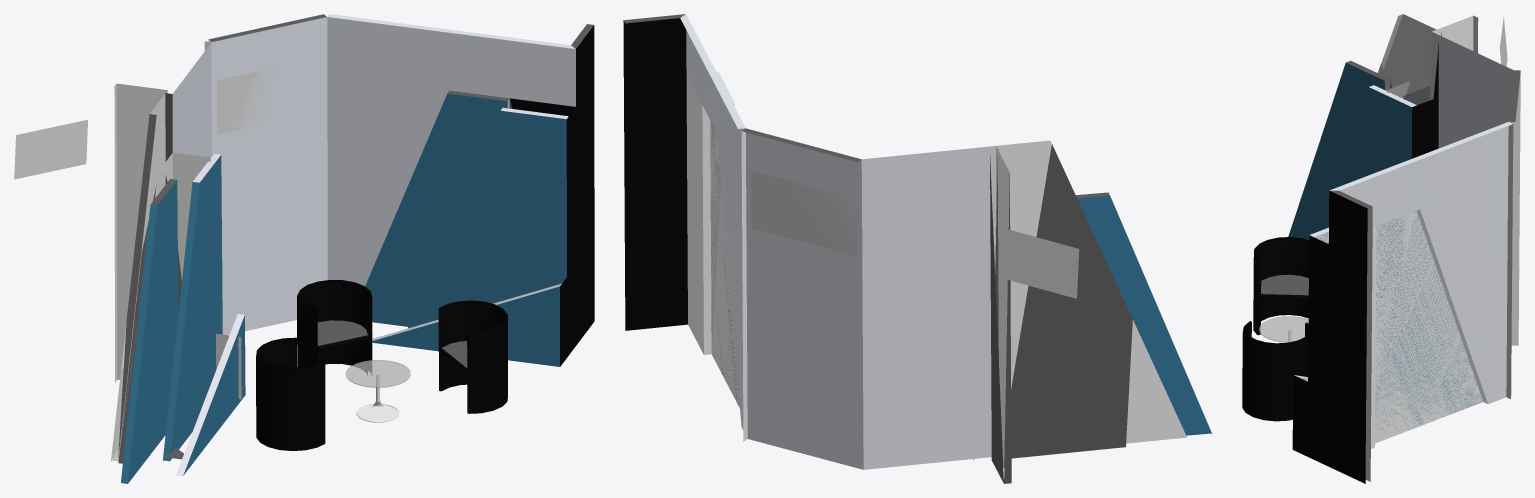
Rendered from OneTechHubProjMain.glb.
3 views of the same model, side by side, from view 1: azimuth 30°, elevation 25°; view 2: azimuth 150°, elevation 25°; view 3: azimuth 270°, elevation 25° (orthographic). The views are drawn at different scales.
Visible parts, largest first — view 1: SketchUp, group_0, oneTechLogo, image_6, group_1, group_2; view 2: SketchUp, image_6, oneTechLogo; view 3: SketchUp, group_0, group_1.
Boxes of the visible parts, bbox=[...] form: SketchUp: bbox=[111, 14, 594, 483]; group_0: bbox=[256, 280, 507, 450]; oneTechLogo: bbox=[14, 119, 87, 179]; image_6: bbox=[217, 68, 276, 134]; group_1: bbox=[345, 360, 410, 387]; group_2: bbox=[356, 373, 399, 422]; SketchUp: bbox=[623, 14, 1211, 483]; image_6: bbox=[751, 171, 856, 255]; oneTechLogo: bbox=[1005, 229, 1079, 298]; SketchUp: bbox=[1288, 14, 1520, 483]; group_0: bbox=[1242, 237, 1309, 421]; group_1: bbox=[1259, 316, 1308, 342].
Size of the model in its own units: 220 by 123 by 110.
